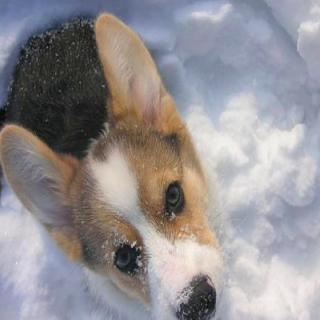dog: (5, 29, 232, 320)
nose: (165, 275, 220, 320)
